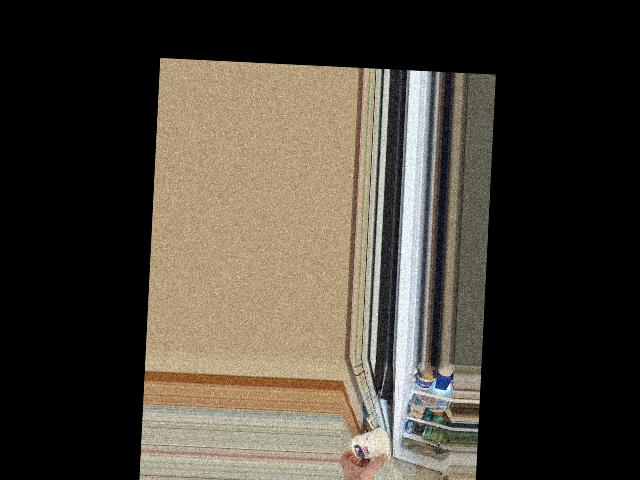cotage: (350, 428, 389, 463)
